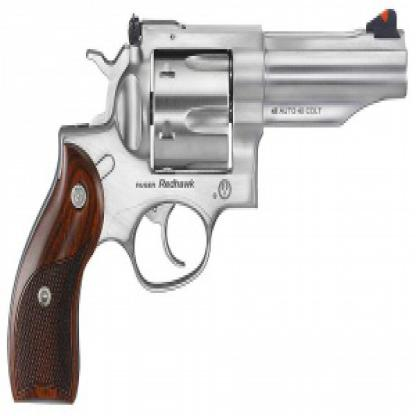Guns: (4, 2, 415, 414)
